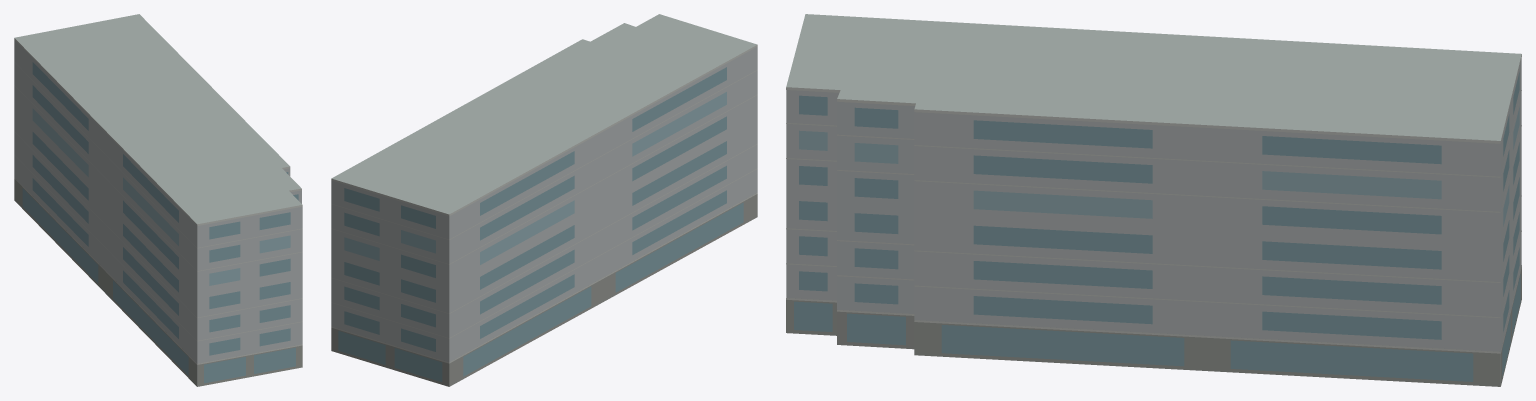
Rendered from survey-upis-32777559.glb.
3 renders of one model, left to right at view 1: azimuth 30°, elevation 25°; view 2: azimuth 150°, elevation 25°; view 3: azimuth 270°, elevation 25°, orthographic. The views are drawn at different scales.
Visible parts, largest first — view 1: survey-upis-32777559.tmp; view 2: survey-upis-32777559.tmp; view 3: survey-upis-32777559.tmp.
Boxes of the visible parts, bbox=[...] form: survey-upis-32777559.tmp: bbox=[14, 14, 302, 386]; survey-upis-32777559.tmp: bbox=[331, 14, 757, 386]; survey-upis-32777559.tmp: bbox=[786, 14, 1521, 386].
Size of the model in its own units: 24.07 by 21.7 by 58.86.
